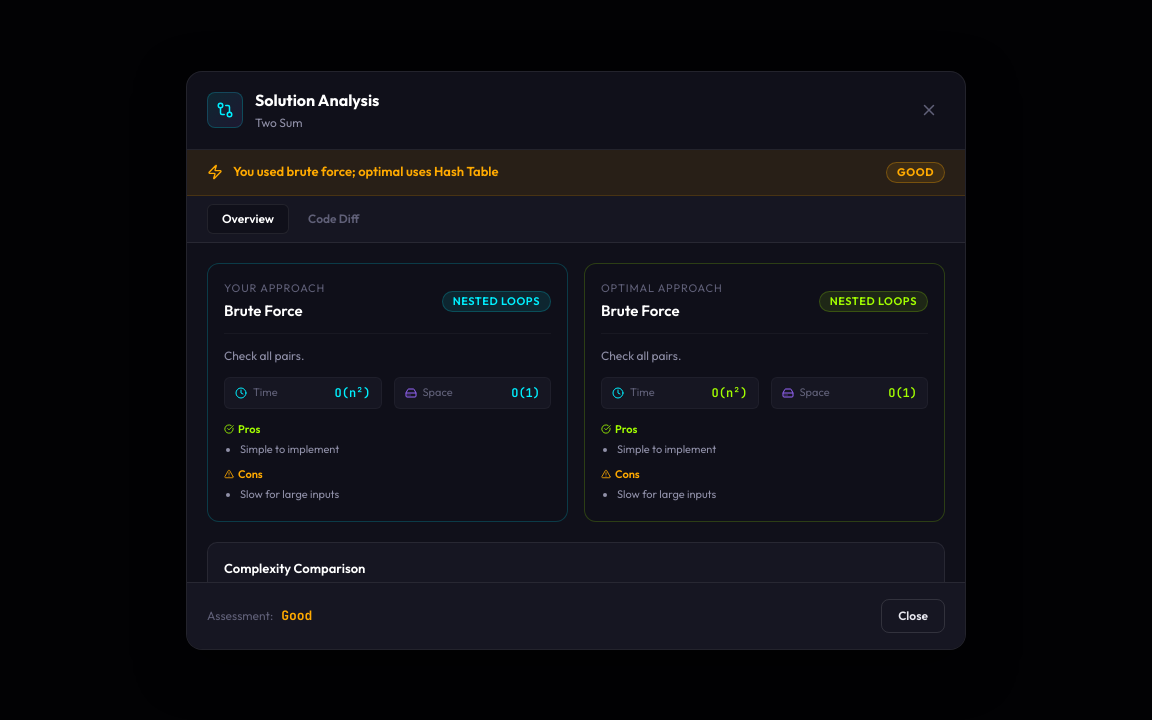
Test: SolutionComparison › tab switching › switches back to overview tab after clicking "Overview"
The width and height of the screenshot is (1152, 720).
Go to code tab
Click the button "Code Diff".
click(334, 218)  # box x1=293 y1=204 x2=374 y2=234
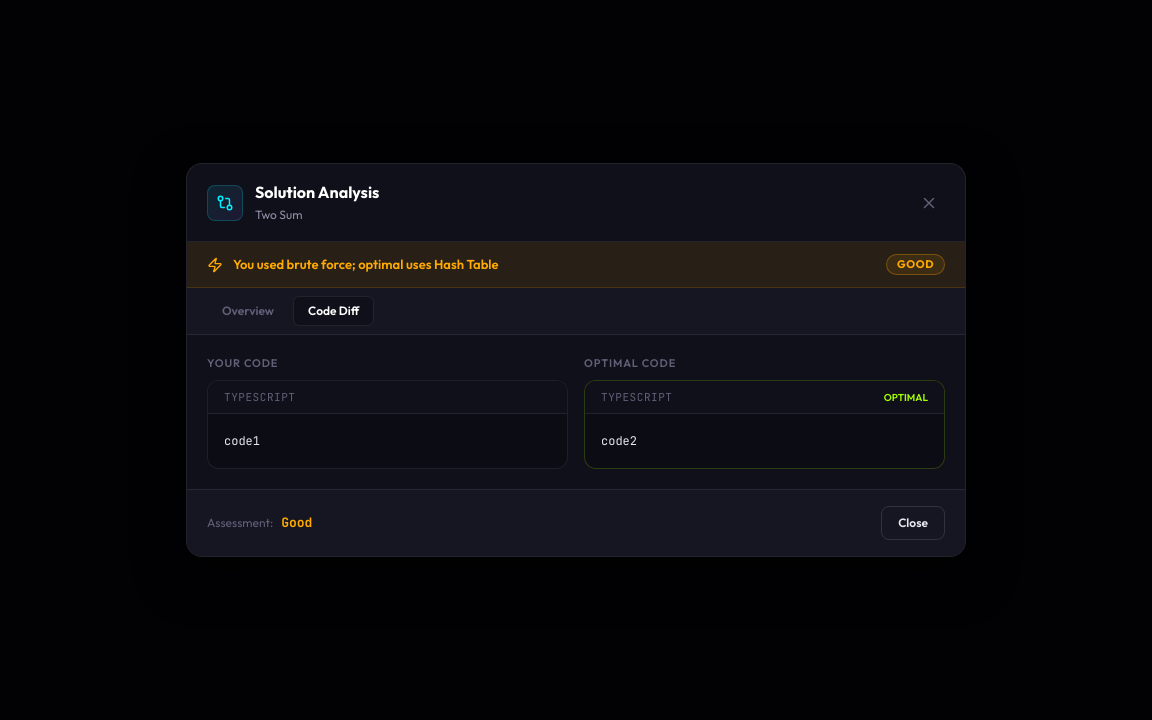
Expected: the text "Complexity Comparison" is gone
Back to overview
Click the button "Overview".
click(248, 311)  # box x1=207 y1=296 x2=289 y2=326
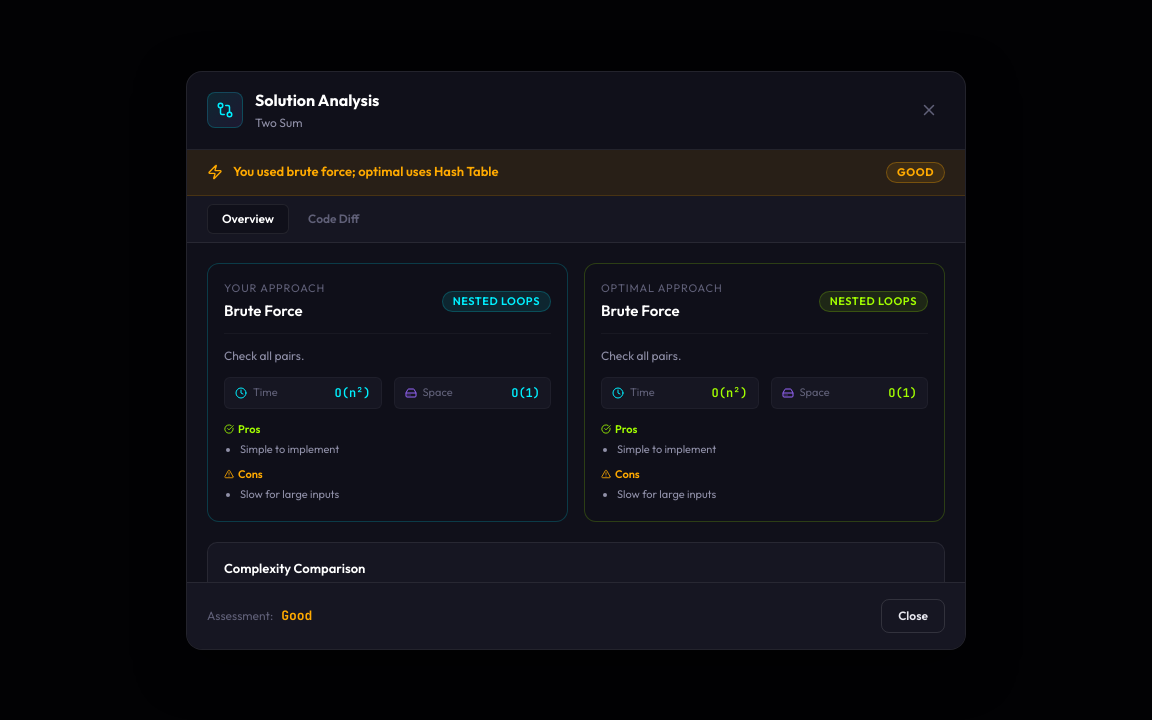
Expected: the text "Complexity Comparison" is shown, x1=224 y1=560 x2=365 y2=576
